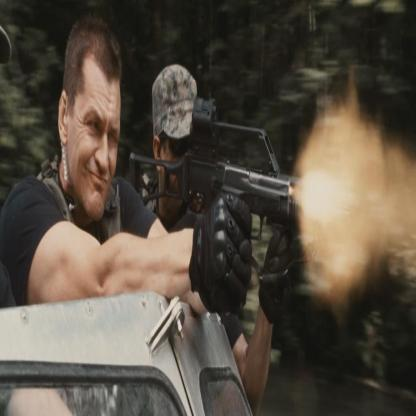gun: (170, 100, 312, 265)
